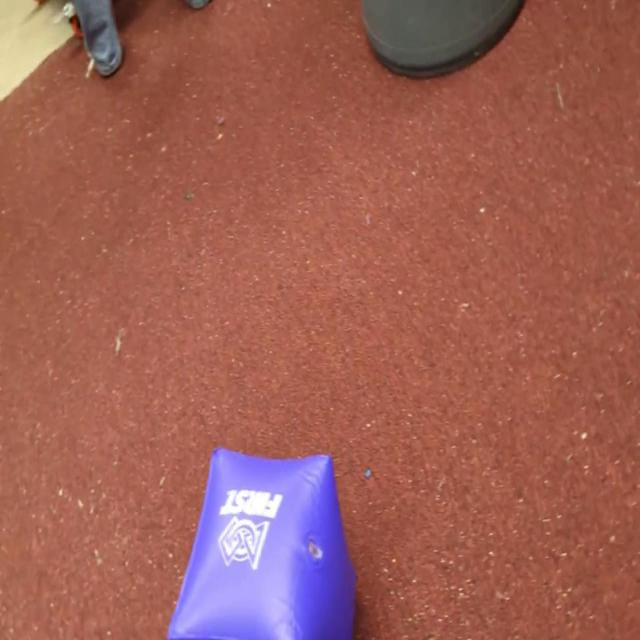frc_cube: (167, 444, 357, 640)
